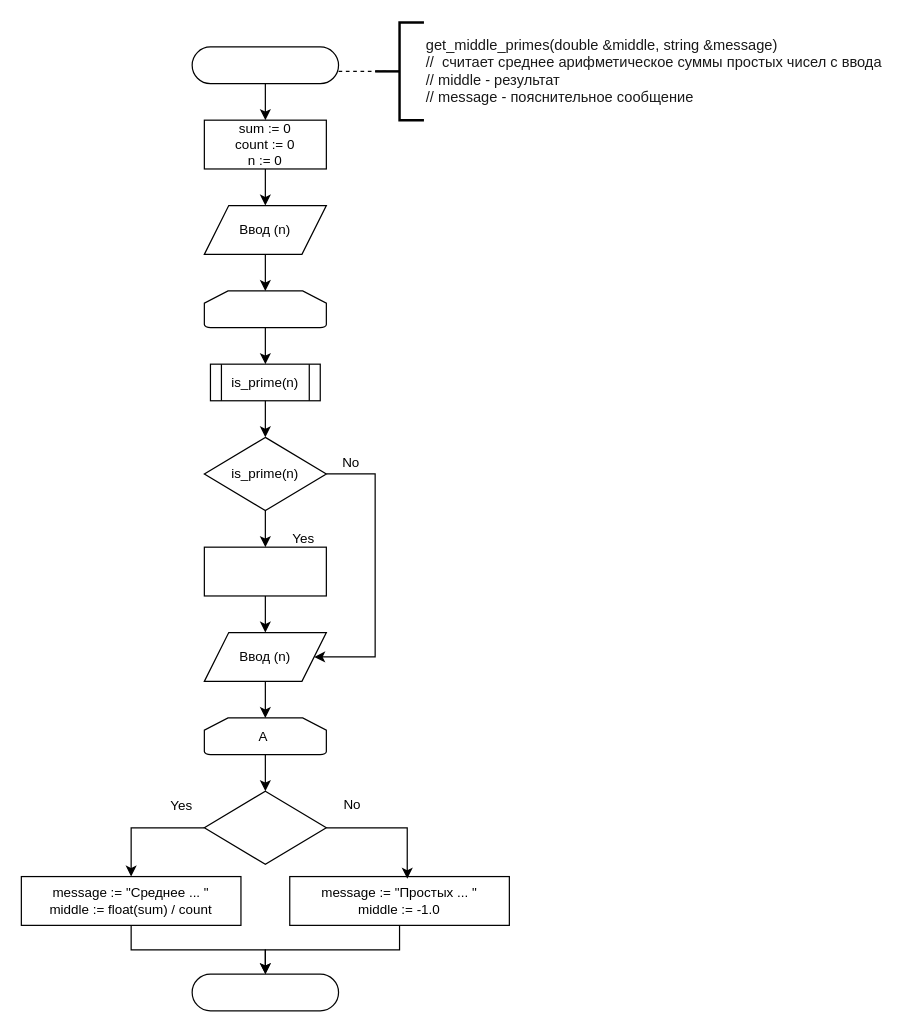
This 904x1032 diagram has some shape labels left out. Here are the shapes that lost their labels. From the top down, the centre of each, then its label:
At [265,65]: "Начало".
At [264,309]: "A пока n > 0".
At [264,571]: "sum := sum + n count := count + 1".
At [264,827]: "count > 0".
At [265,992]: "Конец".
